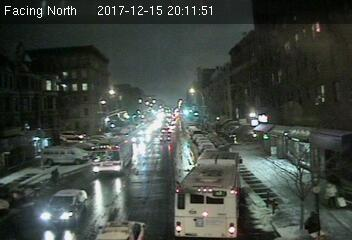bus: (174, 149, 237, 239), (90, 135, 133, 174)
car: (40, 189, 84, 225), (158, 134, 172, 142)
